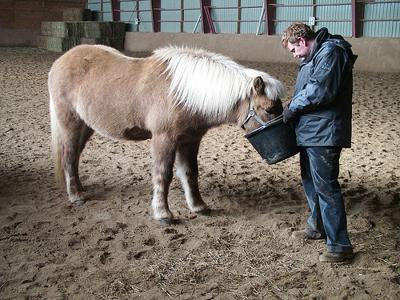person: (280, 22, 357, 265)
